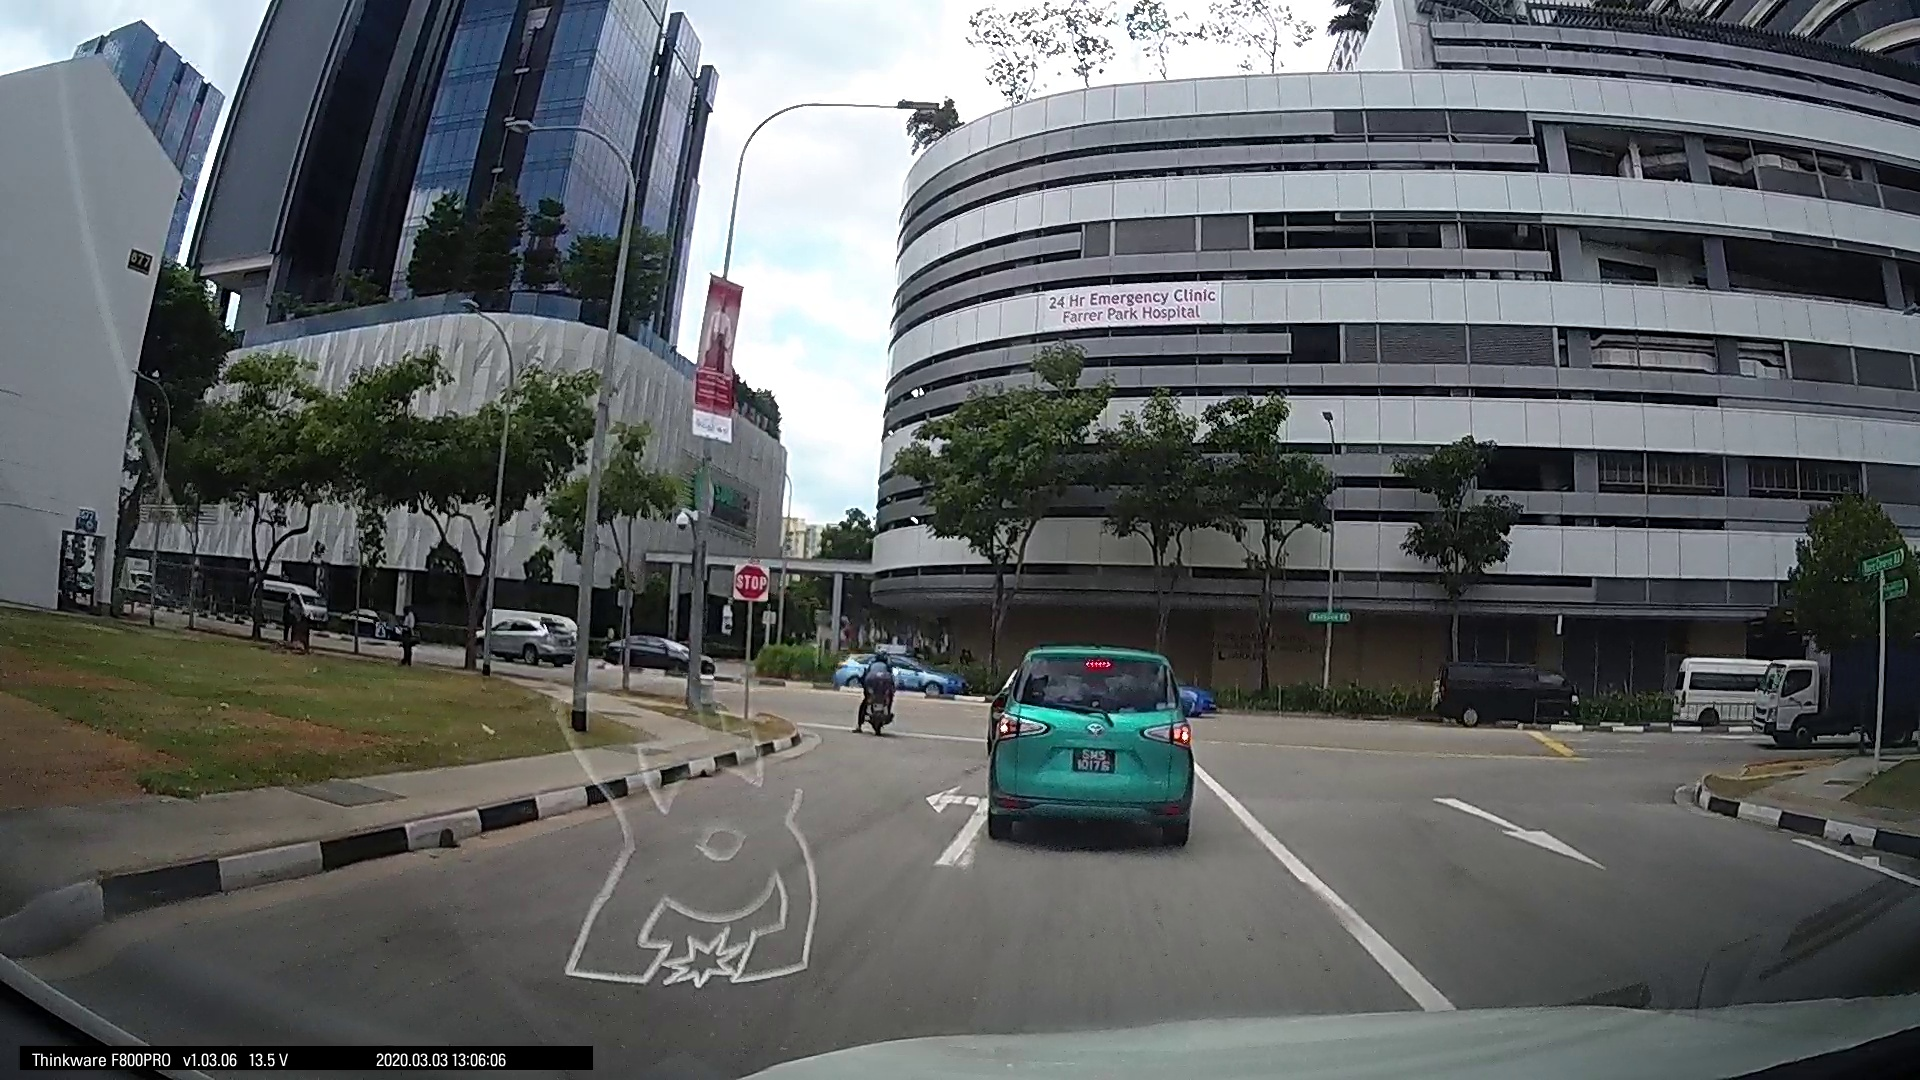Heavy Vehicle: (1753, 645, 1862, 740), (1667, 651, 1778, 729)
Light Vehicle: (976, 633, 1196, 851), (469, 600, 585, 673), (605, 628, 704, 679)
